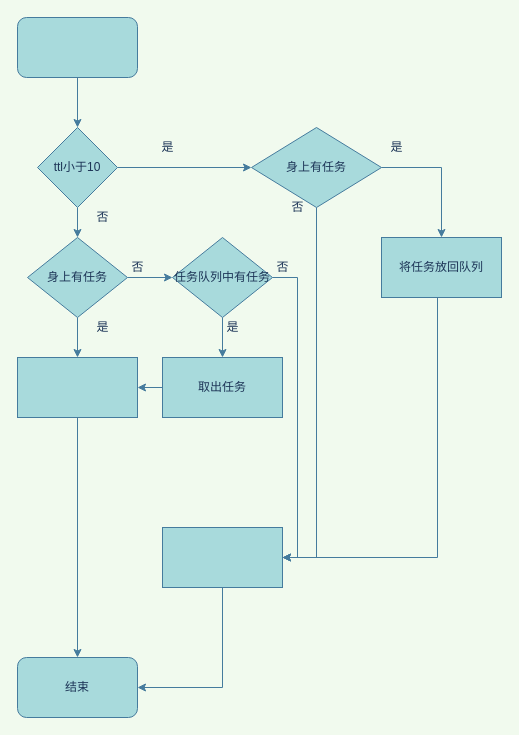
Image size: 519x735. Some labels were removed from this diagram. Here are the shapes that lost their labels. From the top down, the box of each, then its label:
(16, 16, 138, 78): 一个搬运工
(16, 356, 138, 418): 执行任务
(162, 526, 282, 588): 将身上的资源放进Storge
